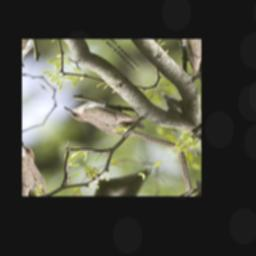Cuckoo: (63, 75, 179, 180)
